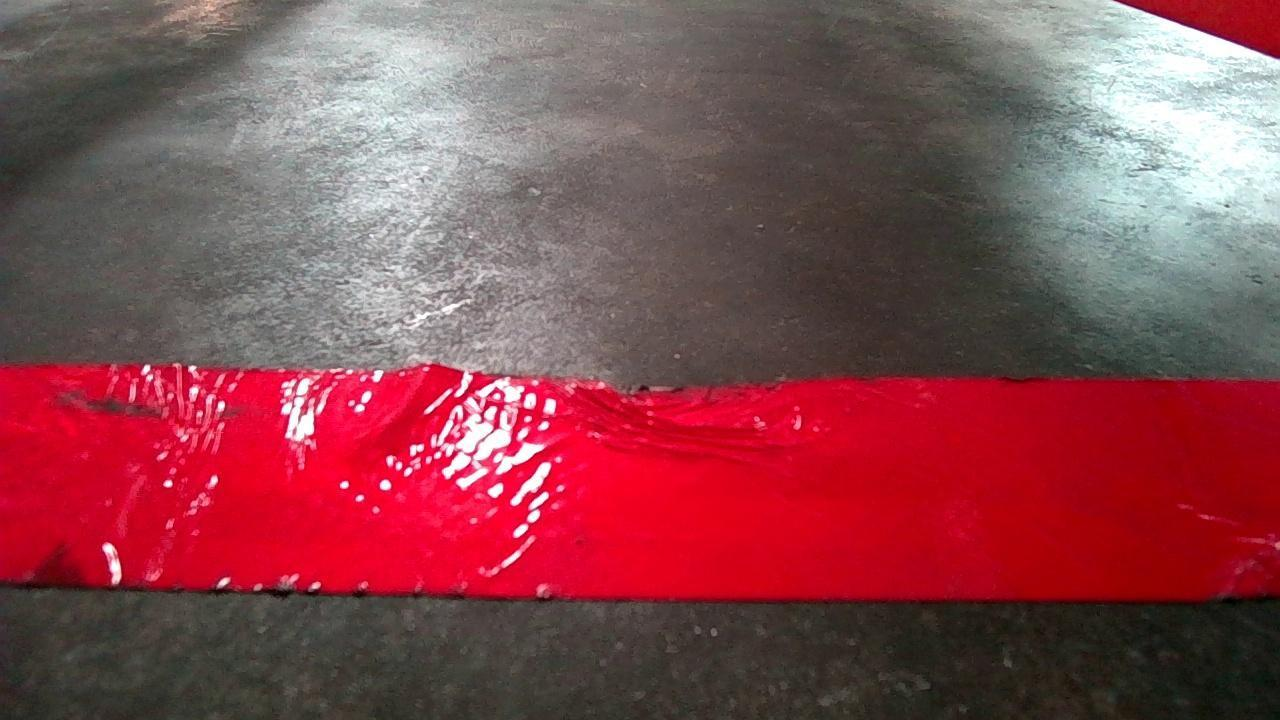h_rack: (34, 358, 1250, 602)
